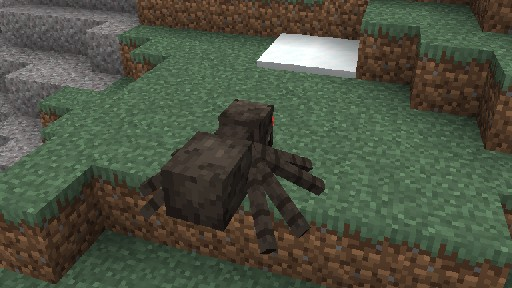spider: (137, 98, 325, 253)
